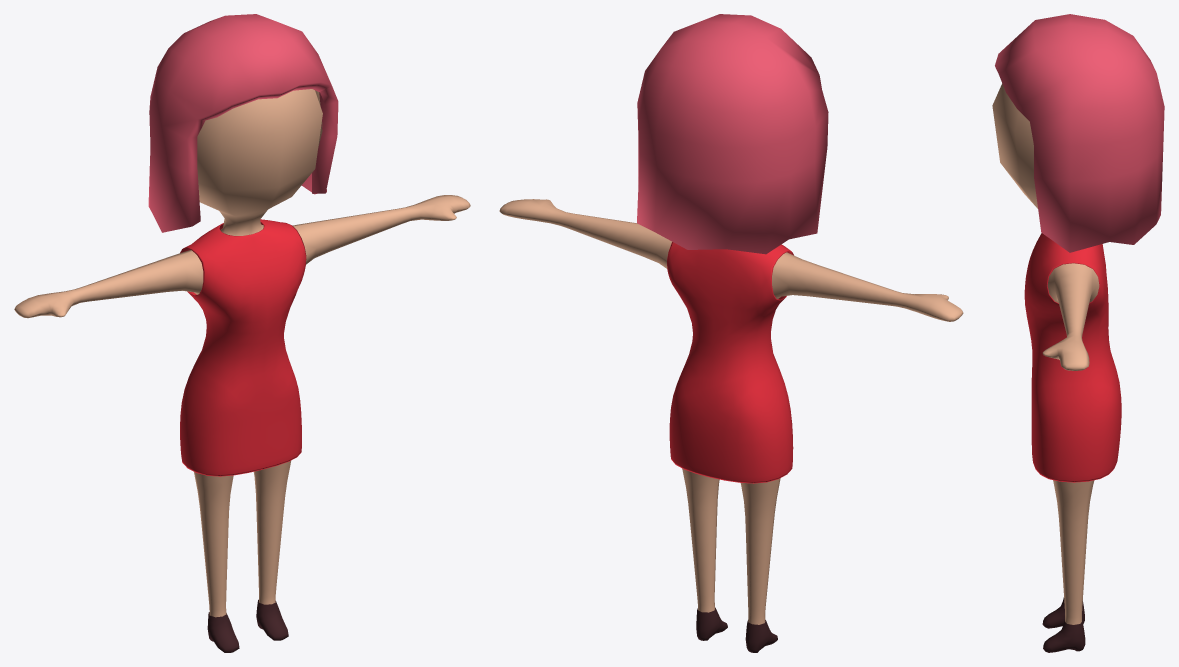
File: body_woman4.fbx
3 renders of one model, left to right at view 1: azimuth 30°, elevation 25°; view 2: azimuth 150°, elevation 25°; view 3: azimuth 270°, elevation 25°, orthographic.
Visible parts, largest first — view 1: body_woman4, shirt_woman4, hair_woman4, shoe_woman4; view 2: hair_woman4, shirt_woman4, body_woman4, shoe_woman4; view 3: hair_woman4, shirt_woman4, body_woman4, shoe_woman4.
Boxes of the visible parts, x1=… form: body_woman4: x1=14, y1=89, x2=470, y2=617; shirt_woman4: x1=180, y1=219, x2=306, y2=476; hair_woman4: x1=148, y1=14, x2=338, y2=232; shoe_woman4: x1=207, y1=599, x2=288, y2=652; hair_woman4: x1=637, y1=14, x2=828, y2=254; shirt_woman4: x1=667, y1=242, x2=793, y2=483; body_woman4: x1=499, y1=199, x2=963, y2=624; shoe_woman4: x1=696, y1=607, x2=777, y2=652; hair_woman4: x1=995, y1=14, x2=1164, y2=252; shirt_woman4: x1=1024, y1=233, x2=1121, y2=482; body_woman4: x1=992, y1=83, x2=1099, y2=624; shoe_woman4: x1=1042, y1=597, x2=1085, y2=652.
Bounding box in the file's own units: 156 × 203 × 51.6.
